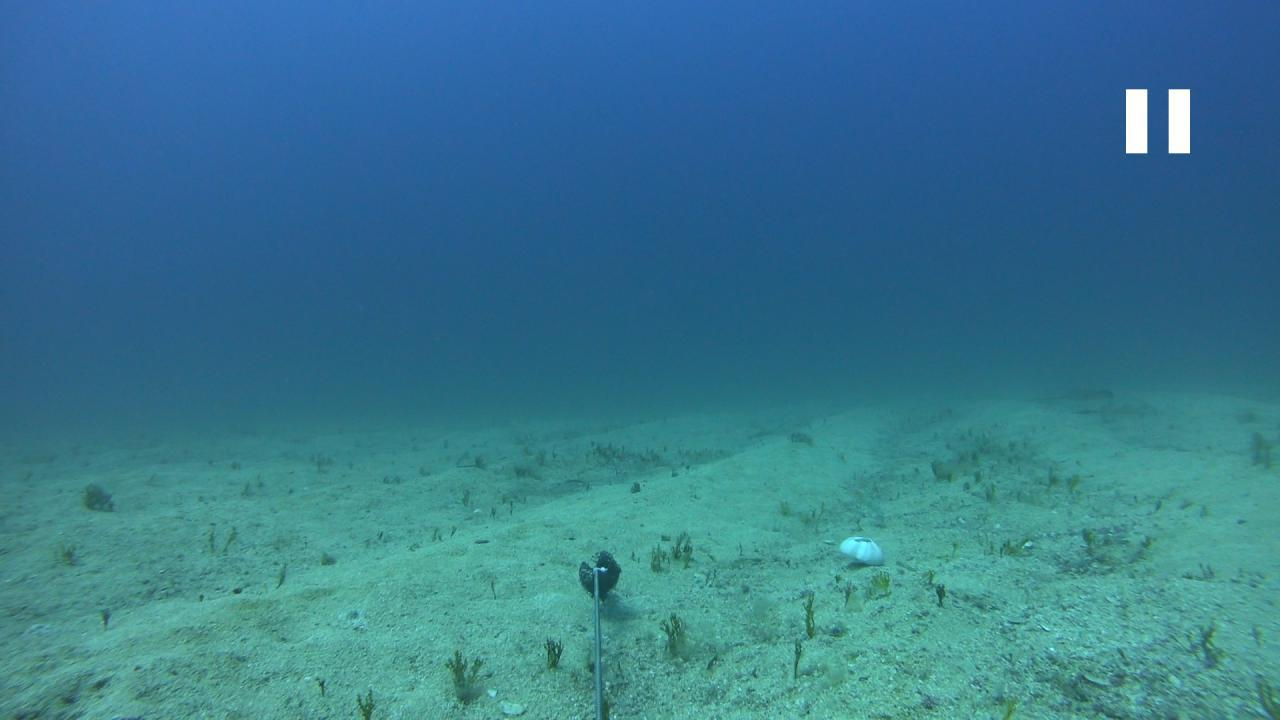dasyatis: (1018, 389, 1115, 403)
